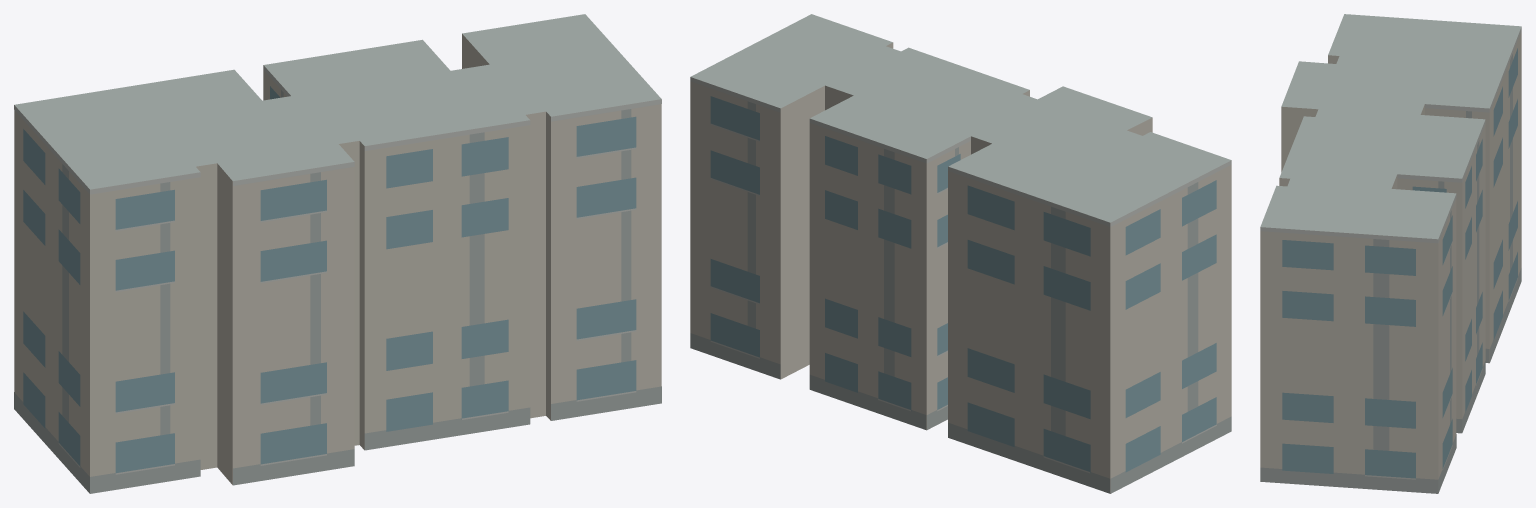
The model's file is survey-upis-32808773.glb.
3 renders of one model, left to right at view 1: azimuth 30°, elevation 25°; view 2: azimuth 150°, elevation 25°; view 3: azimuth 270°, elevation 25°, orthographic. The views are drawn at different scales.
Visible parts, largest first — view 1: survey-upis-32808773.tmp; view 2: survey-upis-32808773.tmp; view 3: survey-upis-32808773.tmp.
Boxes of the visible parts, x1,y1,x2,y2 form: survey-upis-32808773.tmp: (14, 14, 661, 493); survey-upis-32808773.tmp: (690, 14, 1231, 493); survey-upis-32808773.tmp: (1260, 14, 1521, 493).
Size of the model in its own units: 28.46 by 15 by 13.96.
